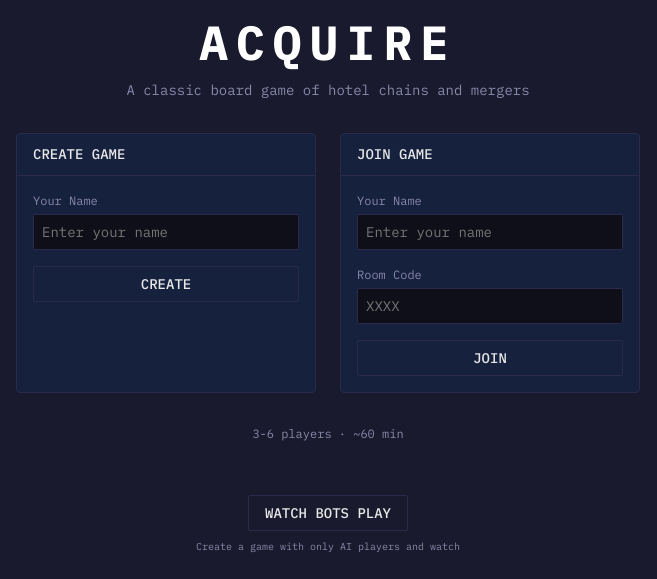
Test: LobbyPage › Join Game validation › shows error when name is empty
The width and height of the screenshot is (657, 579).
Type "ABCD" into the field with test id "join-room-input" at (490,306), box [357,288,623,324]
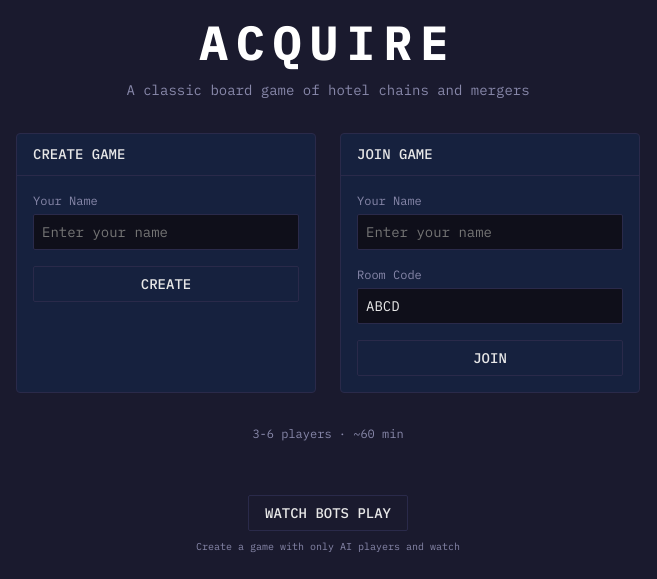
Click the button with test id "join-button" at (490,358), box [357,340,623,376]
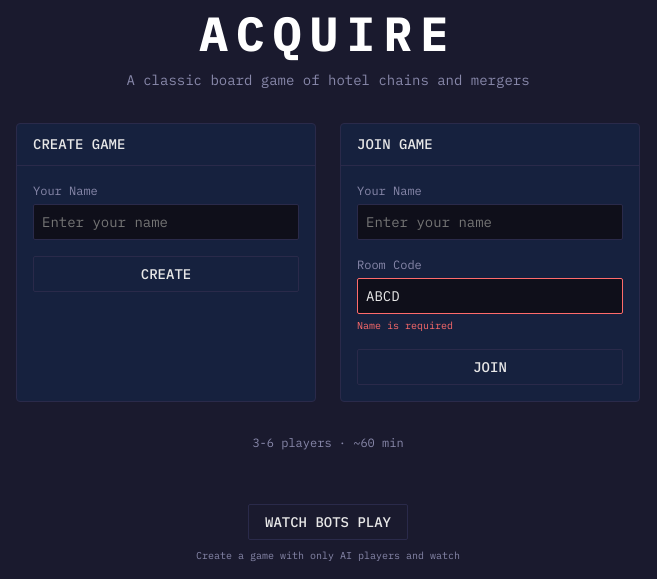
Now the text "Name is required" is shown, box [357,319,453,332]
